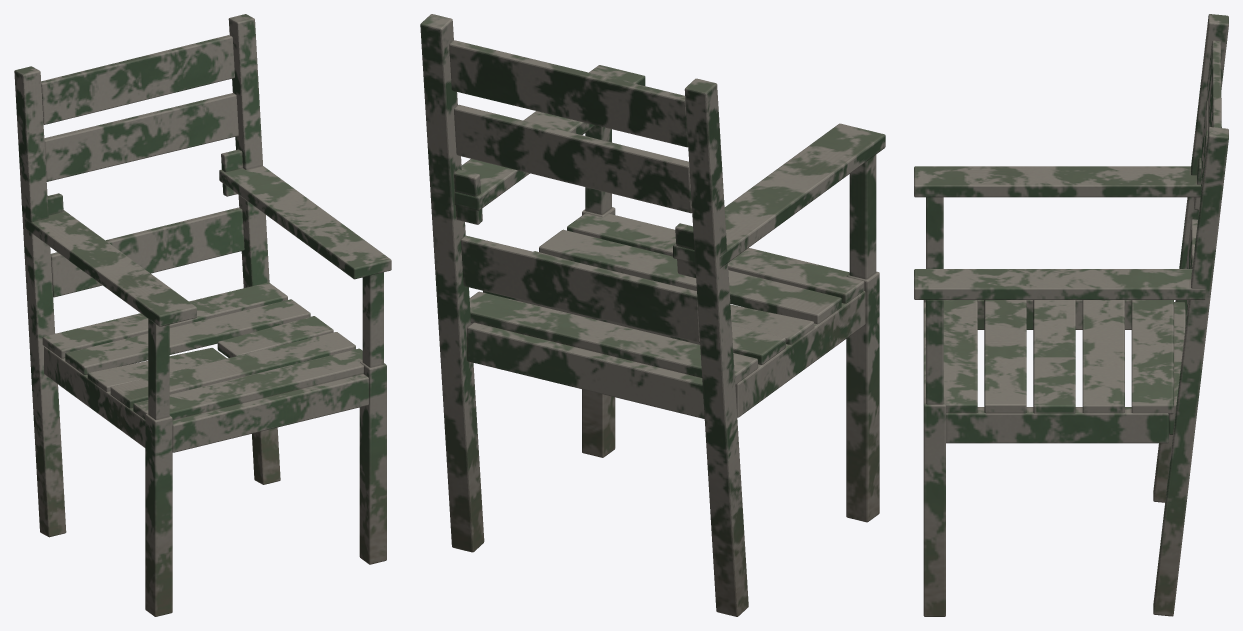
Rendered from chair_slat.glb.
3 views of the same model, side by side, from view 1: azimuth 30°, elevation 25°; view 2: azimuth 150°, elevation 25°; view 3: azimuth 270°, elevation 25° (orthographic). The views are drawn at different scales.
Parts seen in each view (by area): view 1: chair_slat_WearChairPaintSlat; view 2: chair_slat_WearChairPaintSlat; view 3: chair_slat_WearChairPaintSlat.
Part boxes in pixels (<box>): chair_slat_WearChairPaintSlat: <box>14,14,391,616</box>; chair_slat_WearChairPaintSlat: <box>420,14,885,616</box>; chair_slat_WearChairPaintSlat: <box>914,14,1228,616</box>.
Size of the model in its own units: 0.521 by 0.954 by 0.5655.
Materials: 1 (1 with a texture image).
